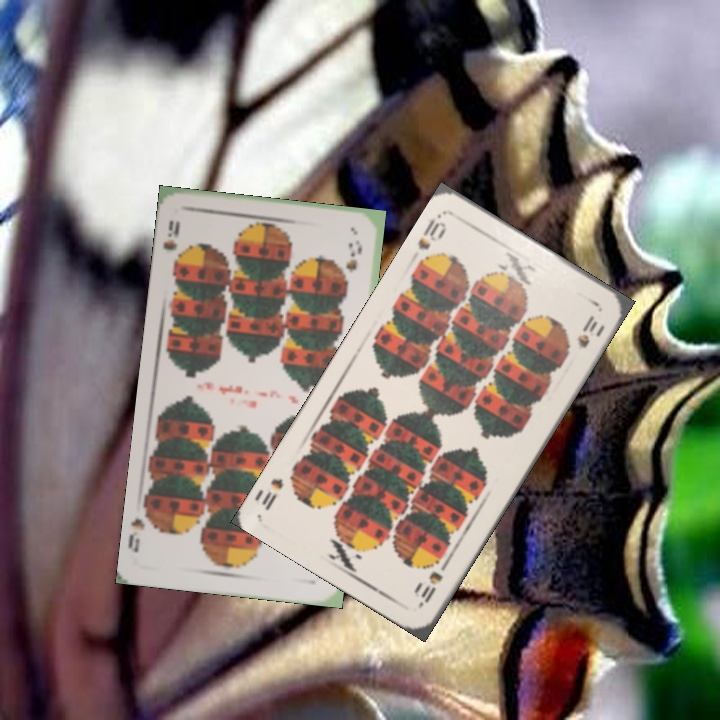S10: (414, 555, 452, 609), (413, 214, 450, 253)
S9: (159, 216, 186, 271)
